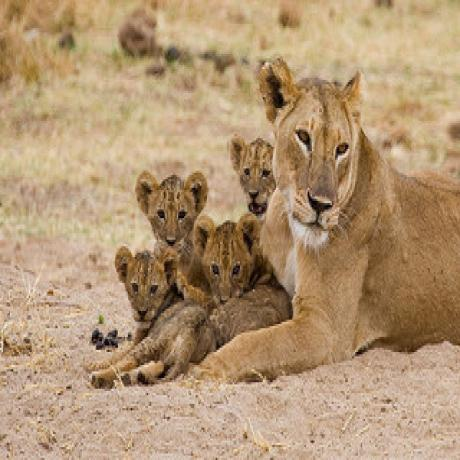Lion: (256, 55, 460, 359), (94, 243, 216, 383), (193, 211, 292, 328), (136, 171, 208, 261), (232, 135, 275, 217)
